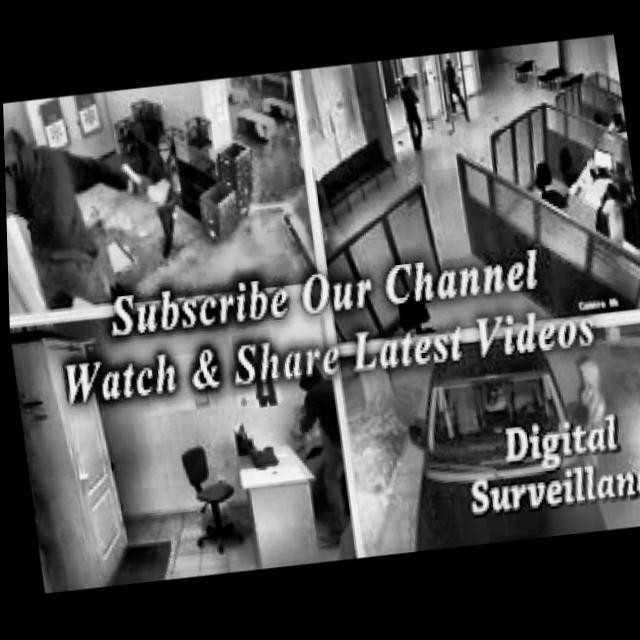burglary: (3, 115, 154, 317), (133, 127, 197, 263)
